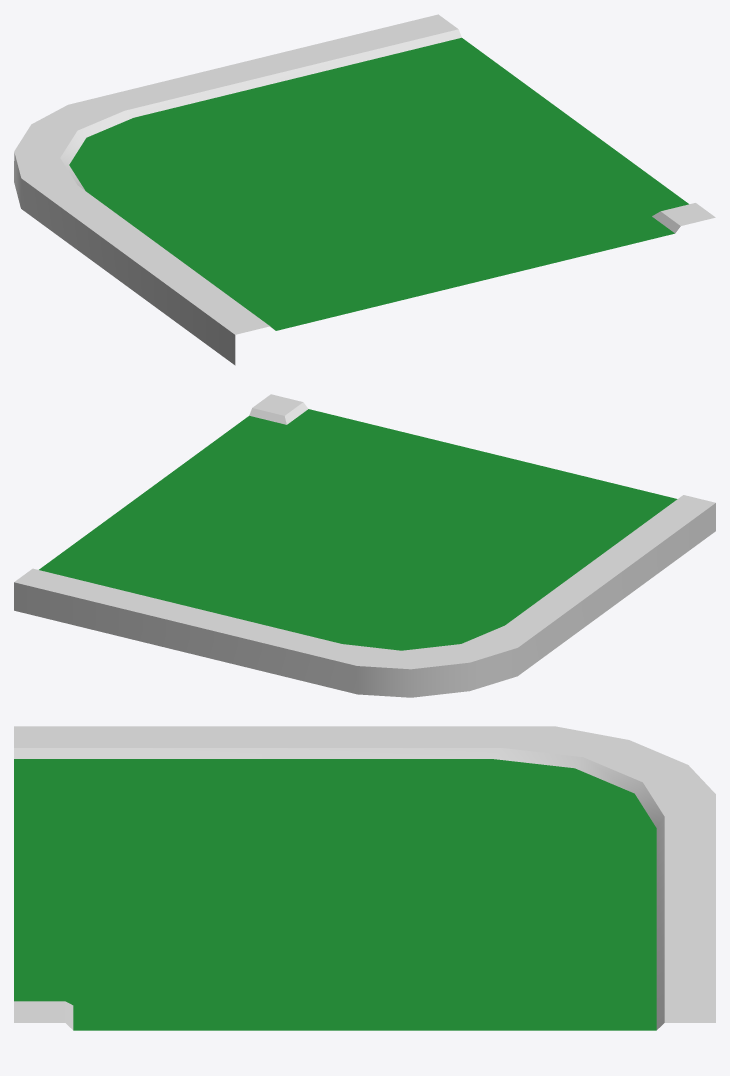
File: GrassBed_1_A_5.fbx
3 views of the same model, one above another, from view 1: azimuth 30°, elevation 25°; view 2: azimuth 150°, elevation 25°; view 3: azimuth 270°, elevation 25° (orthographic). The views are drawn at different scales.
Visible parts, largest first — view 1: GrassBed_1_A_5; view 2: GrassBed_1_A_5; view 3: GrassBed_1_A_5.
Boxes of the visible parts, box(x1,y1,x2,y2) form: GrassBed_1_A_5: box(14, 14, 715, 365); GrassBed_1_A_5: box(14, 394, 715, 697); GrassBed_1_A_5: box(14, 726, 715, 1030).
Bounding box in the file's own units: 120 × 7.32 × 120.
